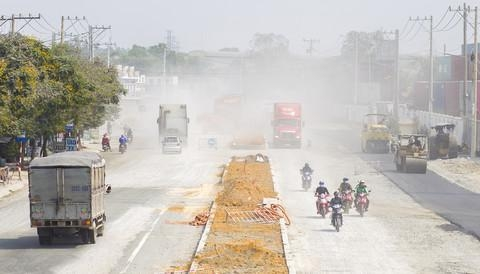car: (161, 136, 182, 154)
motorcycle: (330, 202, 344, 232), (356, 191, 369, 215), (315, 192, 329, 214), (343, 190, 354, 214), (301, 169, 312, 190), (118, 142, 128, 154), (102, 142, 110, 151), (126, 134, 133, 144)
truck: (28, 155, 110, 244), (273, 104, 303, 148)
